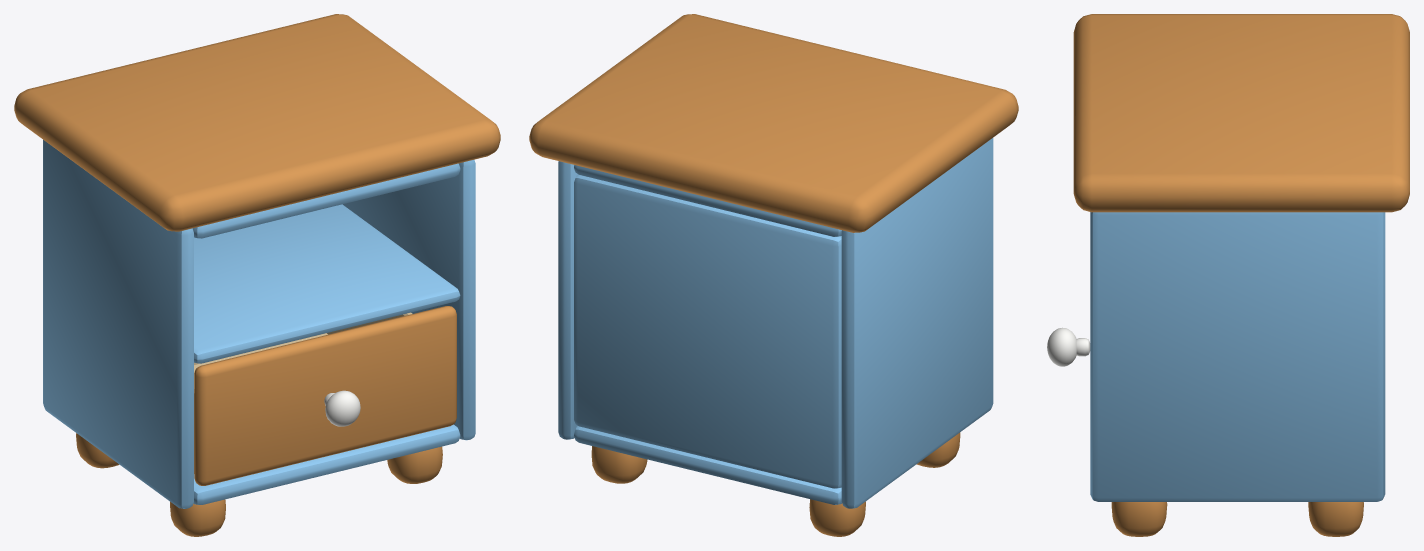
File: criado_nicho_gaveta_azul.glb
3 renders of one model, left to right at view 1: azimuth 30°, elevation 25°; view 2: azimuth 150°, elevation 25°; view 3: azimuth 270°, elevation 25°, orthographic. The views are drawn at different scales.
Visible parts, largest first — view 1: criado_nicho_gaveta_azul, gaveta_1; view 2: criado_nicho_gaveta_azul; view 3: criado_nicho_gaveta_azul, gaveta_1.
Boxes of the visible parts, left/top/right/bottom form: criado_nicho_gaveta_azul: left=14, top=14, right=500, bottom=536; gaveta_1: left=194, top=306, right=456, bottom=485; criado_nicho_gaveta_azul: left=529, top=14, right=1018, bottom=536; criado_nicho_gaveta_azul: left=1073, top=14, right=1409, bottom=536; gaveta_1: left=1047, top=327, right=1090, bottom=366.
Bounding box in the file's own units: 0.5 × 0.515 × 0.4426.
1 material, 1 textured.
